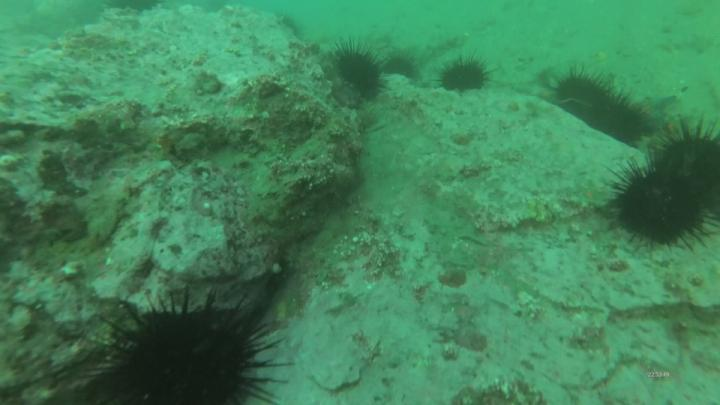echinus: (115, 316, 264, 405), (620, 170, 703, 247), (655, 135, 720, 213), (553, 75, 610, 120), (336, 50, 384, 97), (607, 96, 639, 142), (447, 62, 488, 92)
starfish: (639, 92, 679, 129)
